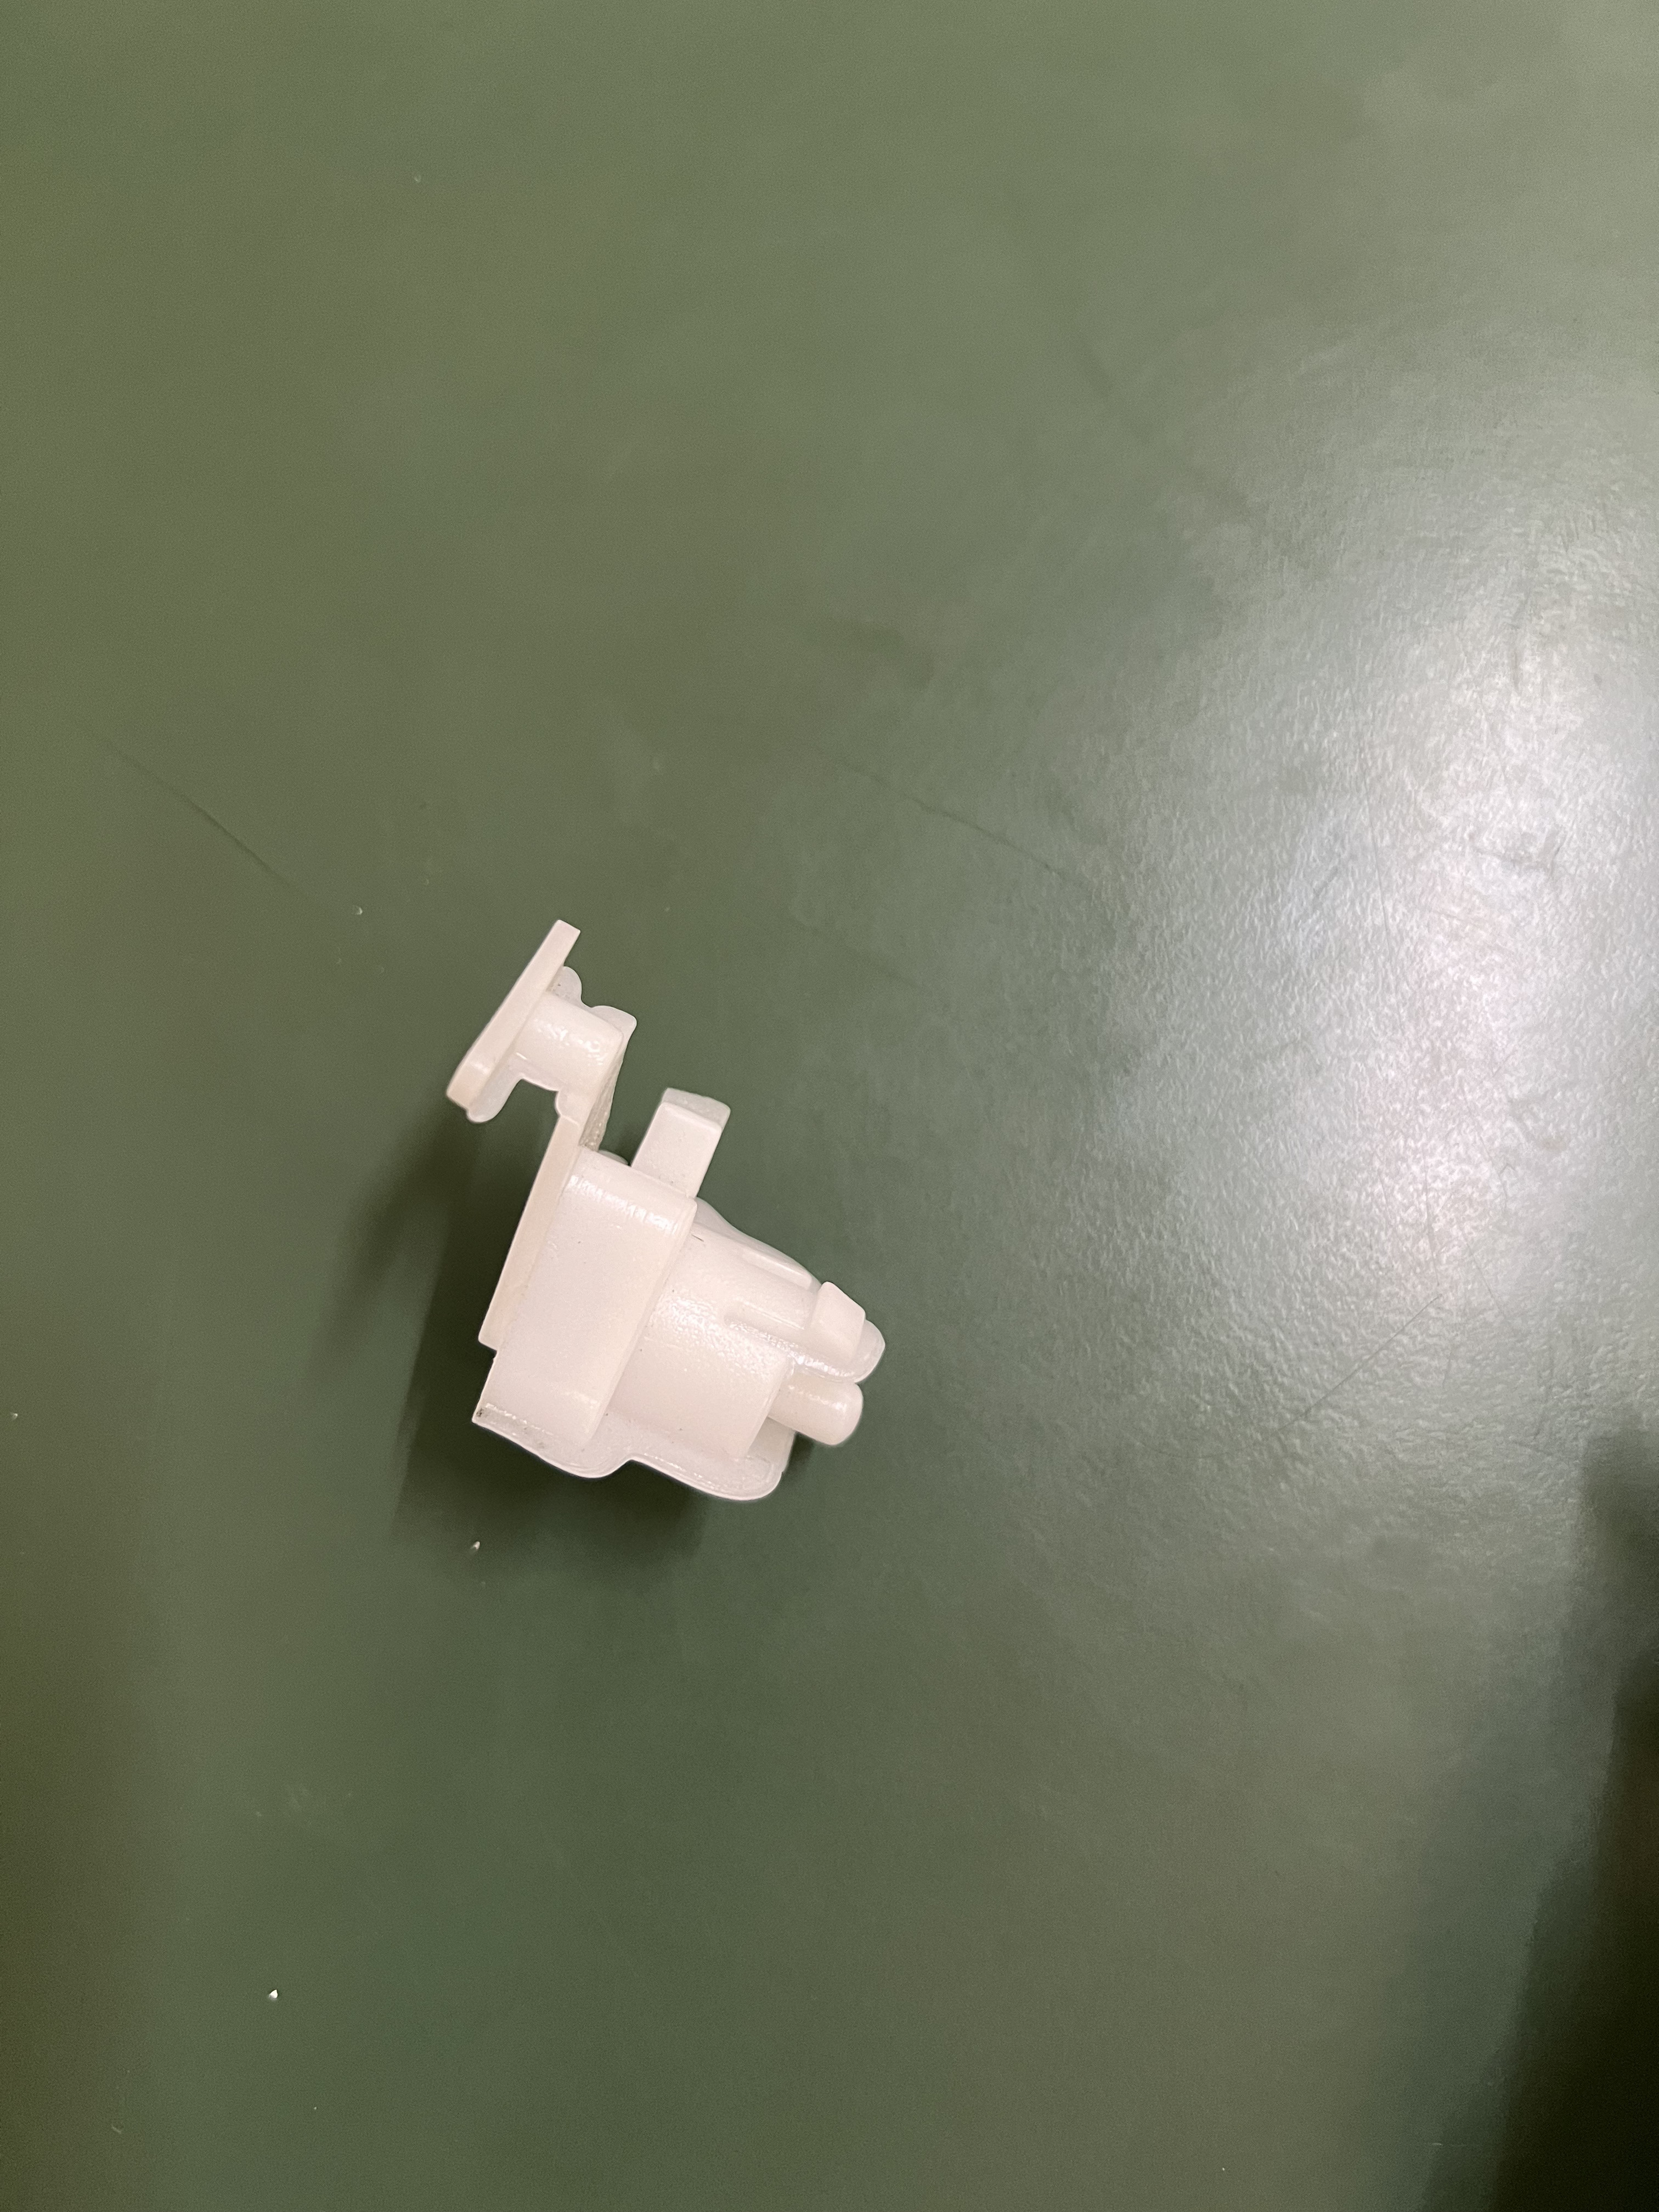drain_lever: (371, 897, 932, 1569)
